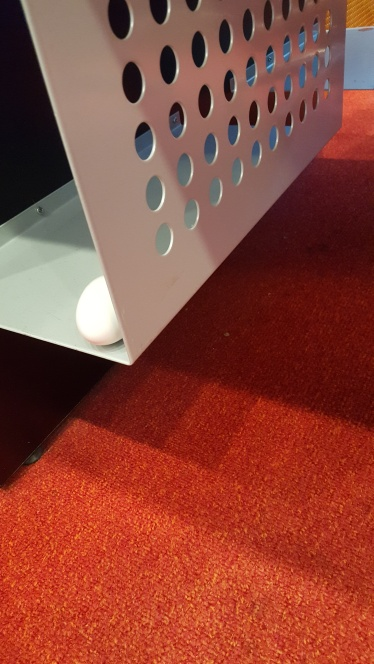egg: (75, 273, 128, 346)
